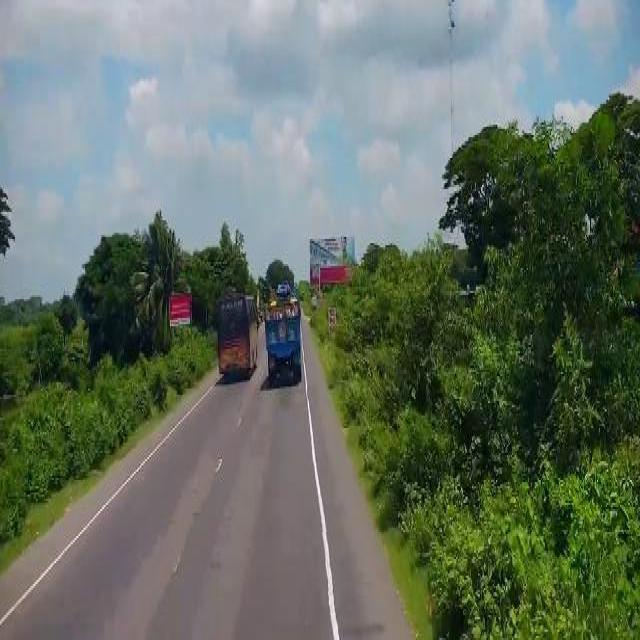bus: (212, 287, 260, 378)
truck: (262, 278, 304, 386)
